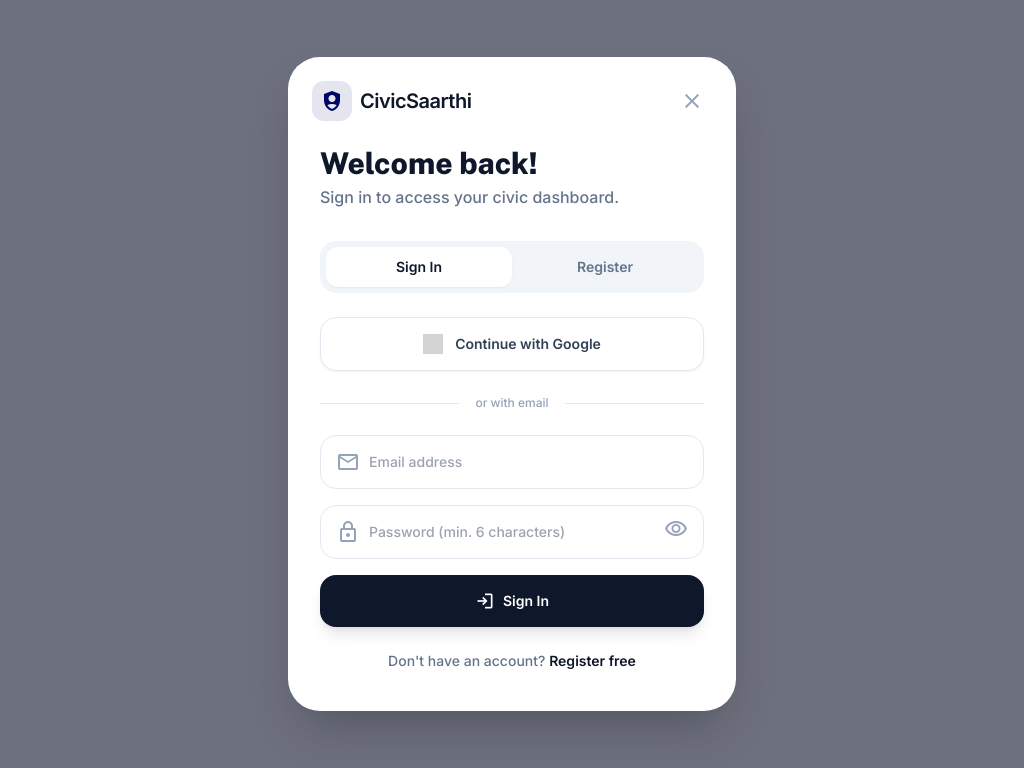
Test case: AuthModal › switches to Register tab when Register button is clicked
Click the tab "Register": click(605, 267) [512, 247, 698, 287]
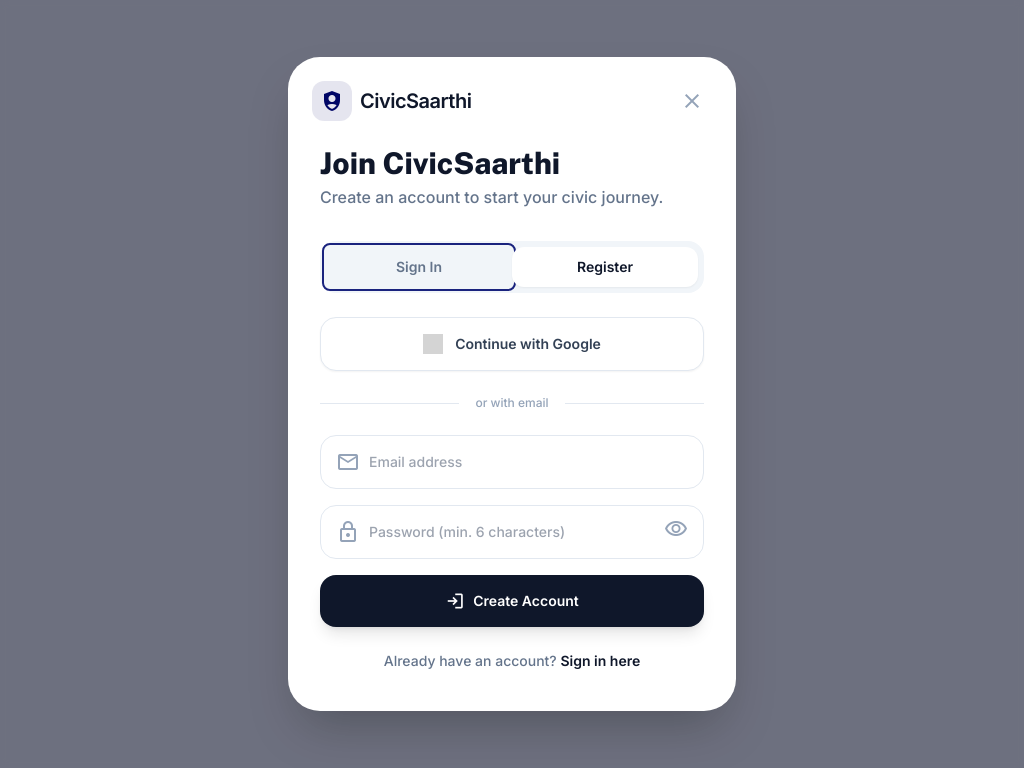
Expected: the dialog "Join CivicSaarthi" is shown, [288, 57, 736, 711]
Expected: the button "Create Account" is shown, [320, 575, 704, 627]
Expected: the panel with id "signin-panel" is gone
